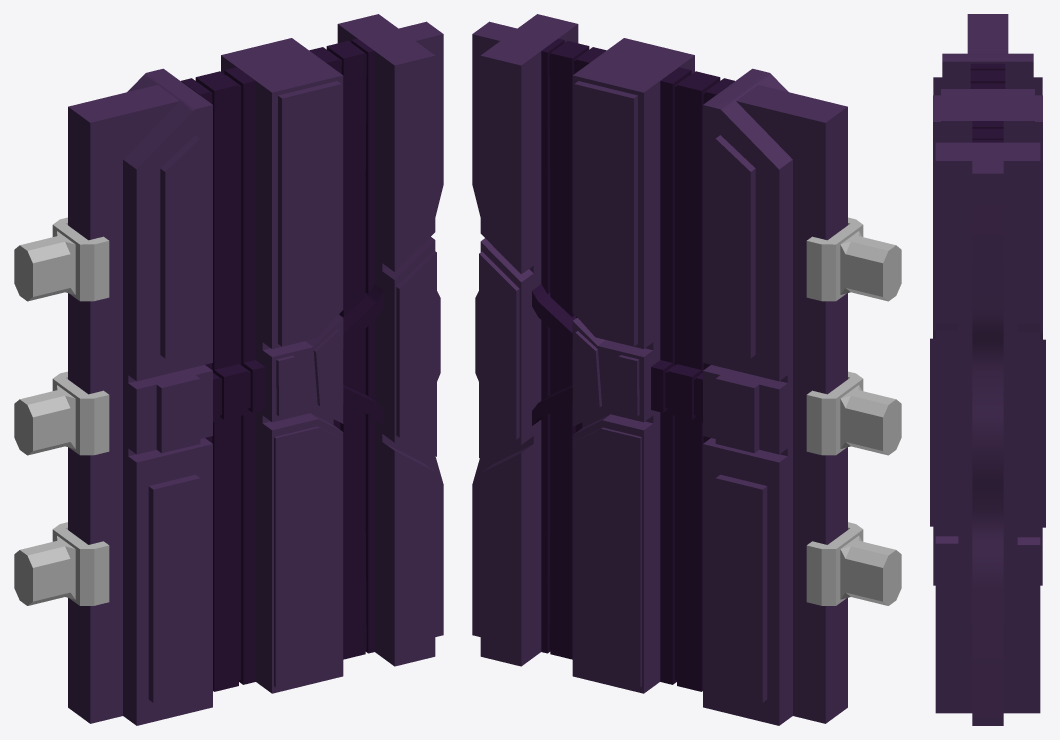
File: CoolDoor_UVd_NoCylinders.fbx
The picture shows the model from 3 angles, left to right: view 1: azimuth 30°, elevation 25°; view 2: azimuth 150°, elevation 25°; view 3: azimuth 270°, elevation 25°; orthographic projection. The views are drawn at different scales.
Visible parts, largest first — view 1: Animate_1_Piece, Animate_2_Piece_Piece, Animate_3_Piece, Animate_2_Gut, Animate_3_Gut, Good_Grippy3, Good_Grippy, Good_Grippy4; view 2: Animate_1_Piece, Animate_2_Piece_Piece, Animate_3_Piece, Animate_2_Gut, Animate_3_Gut, Good_Grippy3, Good_Grippy, Good_Grippy4; view 3: Animate_3_Piece, Animate_2_Piece_Piece, Animate_1_Piece, Animate_2_Gut, Animate_3_Gut.
Part boxes in pixels (x1,y1,x2,y2): Animate_1_Piece: [68, 68, 212, 725]; Animate_2_Piece_Piece: [221, 38, 343, 693]; Animate_3_Piece: [337, 14, 443, 666]; Animate_2_Gut: [181, 67, 264, 691]; Animate_3_Gut: [309, 38, 383, 659]; Good_Grippy3: [14, 371, 109, 455]; Good_Grippy: [14, 217, 109, 301]; Good_Grippy4: [14, 522, 109, 605]; Animate_1_Piece: [703, 68, 847, 725]; Animate_2_Piece_Piece: [572, 38, 694, 693]; Animate_3_Piece: [472, 14, 578, 666]; Animate_2_Gut: [651, 67, 734, 691]; Animate_3_Gut: [532, 38, 606, 659]; Good_Grippy3: [806, 371, 901, 455]; Good_Grippy: [806, 217, 901, 301]; Good_Grippy4: [806, 522, 901, 605]; Animate_3_Piece: [930, 142, 1045, 725]; Animate_2_Piece_Piece: [933, 89, 1042, 339]; Animate_1_Piece: [933, 14, 1042, 585]; Animate_2_Gut: [970, 63, 1005, 88]; Animate_3_Gut: [972, 121, 1003, 142].
Bounding box in the file's own units: 0.5292 × 0.7401 × 0.1404.
